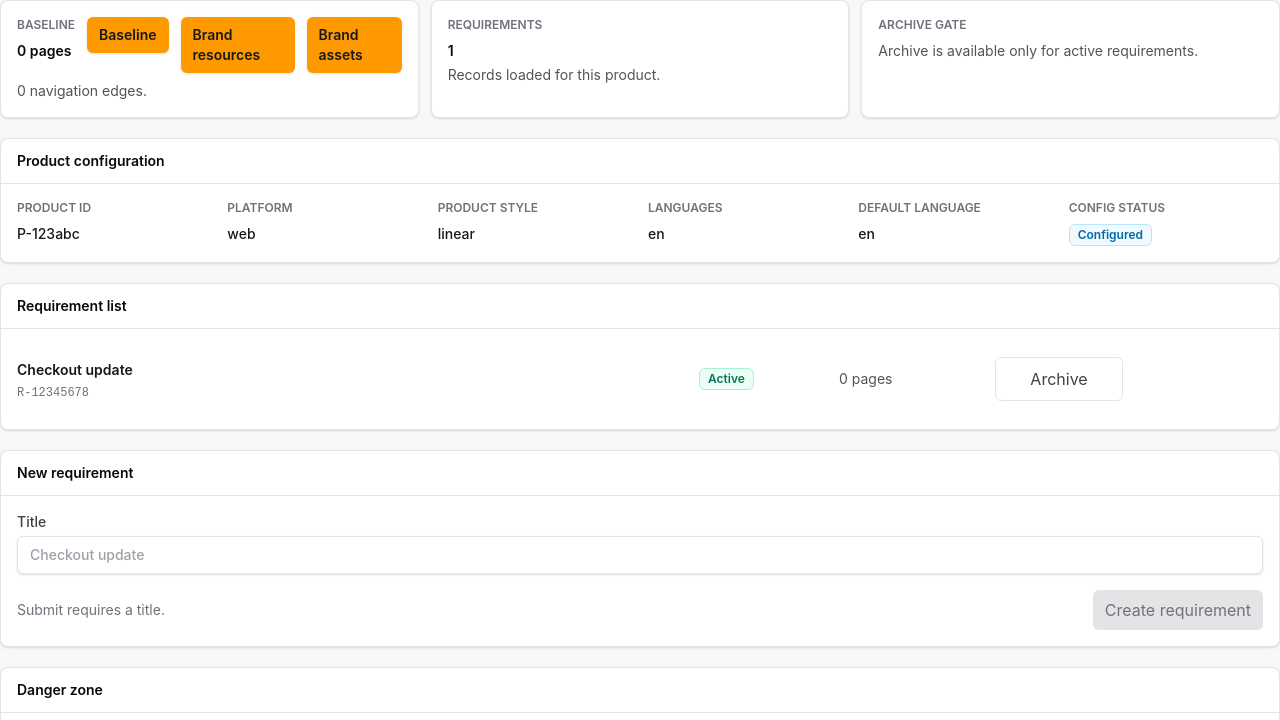
it: ProductDetail › shows archive error message in actionError area without changing requirement status
Click the button "Archive": (1059, 379) [995,357,1123,401]
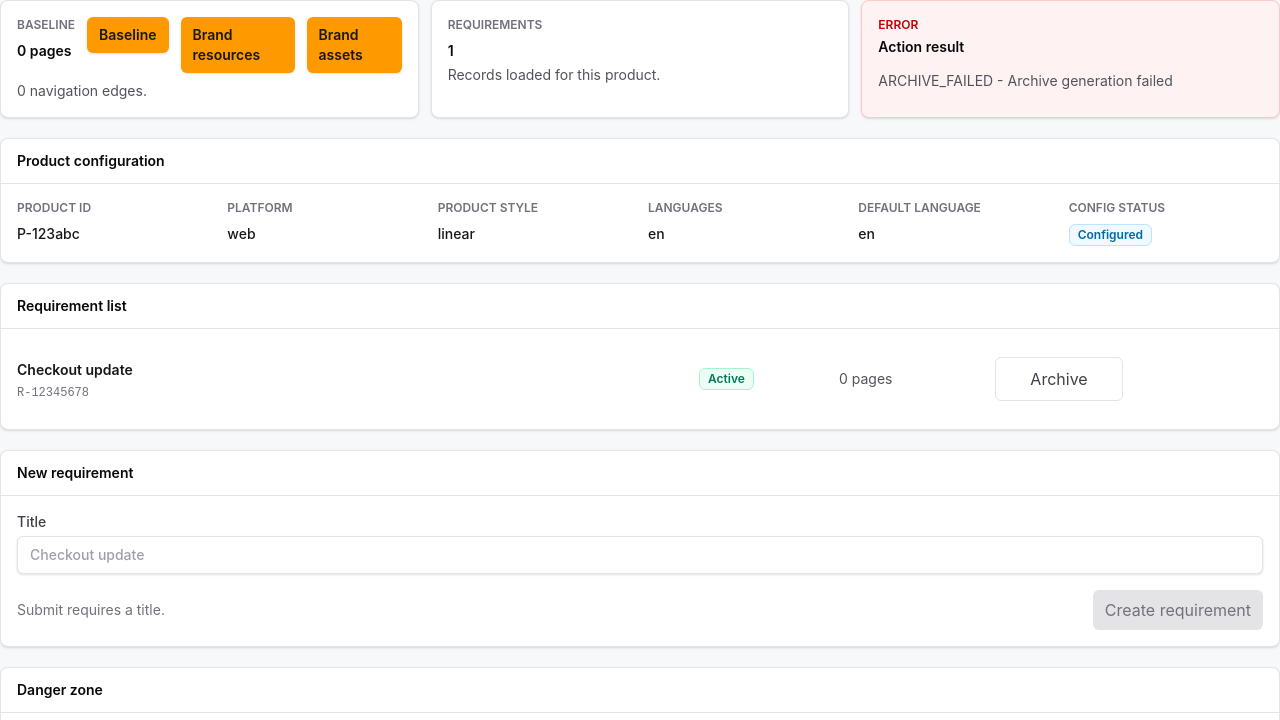
Check: the text "Active" is shown, box [699,368,754,390]
Check: the text "ARCHIVE_FAILED - Archive generation failed" is shown, box [878,72,1173,89]
